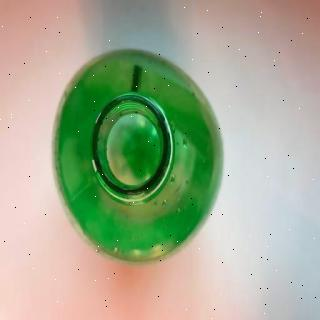Plastic-bottle: (51, 44, 230, 268)
